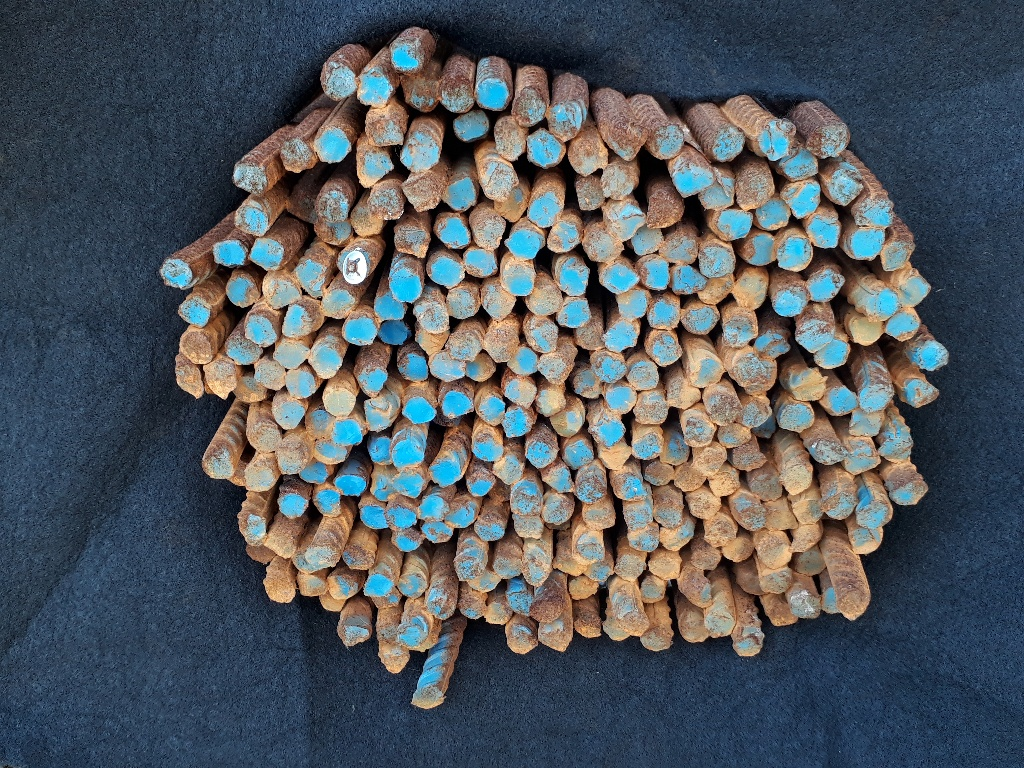dipstick: (607, 121, 648, 162), (738, 163, 773, 211), (538, 344, 575, 385), (440, 72, 474, 114), (401, 134, 439, 170), (704, 390, 741, 426), (603, 204, 643, 237), (315, 127, 351, 163), (357, 71, 392, 108), (551, 399, 585, 437), (584, 227, 622, 261), (759, 122, 793, 160), (808, 124, 851, 154), (808, 269, 846, 302), (647, 193, 682, 228), (758, 532, 792, 568), (845, 438, 879, 474), (530, 130, 563, 167), (495, 117, 524, 159), (514, 87, 546, 125), (733, 272, 765, 310), (571, 140, 606, 174), (407, 76, 440, 112), (404, 176, 439, 209), (395, 224, 430, 257), (483, 164, 515, 200), (854, 196, 892, 226), (603, 166, 636, 200), (249, 238, 283, 271), (733, 498, 767, 531), (778, 239, 812, 272), (282, 137, 314, 172), (337, 248, 372, 280), (502, 260, 534, 295), (366, 114, 402, 145), (720, 316, 756, 347), (559, 260, 589, 297), (649, 332, 682, 365), (437, 216, 471, 248), (786, 185, 820, 217), (325, 64, 356, 99), (475, 80, 510, 111), (453, 112, 489, 142), (357, 153, 393, 183), (533, 276, 560, 316), (175, 359, 204, 396), (755, 197, 788, 229), (369, 187, 403, 218), (430, 256, 464, 287), (483, 286, 514, 320), (652, 124, 683, 158), (830, 171, 861, 205), (807, 215, 838, 249), (550, 102, 577, 141), (773, 286, 808, 316), (659, 237, 696, 265), (781, 153, 818, 181), (180, 331, 212, 363), (449, 286, 481, 318), (511, 484, 543, 516), (526, 320, 557, 353), (634, 394, 667, 425), (605, 321, 638, 352), (701, 179, 734, 210), (234, 164, 268, 194), (486, 327, 516, 361), (797, 321, 831, 351), (546, 223, 580, 253), (714, 127, 744, 161), (206, 363, 235, 398), (815, 340, 850, 369), (226, 335, 262, 363), (879, 435, 915, 463), (674, 167, 714, 192), (264, 278, 301, 305), (716, 211, 753, 238), (600, 267, 638, 293), (856, 502, 893, 528), (392, 40, 423, 71), (782, 465, 813, 496), (444, 179, 474, 211), (528, 195, 560, 225), (690, 356, 722, 386), (852, 229, 884, 259), (288, 191, 317, 224), (282, 305, 311, 338), (416, 303, 449, 332), (684, 305, 718, 333), (593, 356, 628, 383), (732, 444, 767, 471), (905, 380, 941, 406), (318, 191, 348, 222), (390, 271, 421, 301), (311, 348, 342, 378), (652, 496, 682, 527), (751, 471, 782, 501), (744, 235, 774, 266), (849, 411, 886, 436), (575, 177, 603, 210), (235, 208, 268, 236), (248, 424, 281, 452), (323, 389, 356, 417), (732, 354, 765, 382), (886, 314, 919, 342), (891, 480, 929, 504), (246, 316, 276, 346), (684, 413, 714, 443), (226, 277, 257, 306), (255, 357, 284, 388), (660, 434, 689, 465), (618, 290, 647, 321), (900, 276, 931, 305), (701, 247, 732, 276), (161, 259, 193, 287), (641, 260, 669, 292), (823, 493, 856, 520), (647, 303, 680, 330), (790, 373, 823, 400), (824, 386, 857, 413), (779, 405, 813, 431), (699, 277, 733, 303), (266, 573, 295, 603), (791, 523, 820, 553), (214, 238, 245, 266), (322, 289, 353, 317), (766, 501, 797, 529), (743, 397, 771, 428), (506, 231, 538, 258), (883, 244, 915, 271), (667, 381, 700, 407), (342, 319, 376, 344), (659, 527, 693, 552), (286, 368, 315, 397), (393, 441, 423, 469), (647, 554, 682, 578), (867, 291, 897, 319), (179, 299, 210, 326), (277, 442, 304, 473), (306, 410, 333, 441), (202, 451, 234, 477), (241, 514, 267, 546), (859, 387, 891, 413), (276, 342, 309, 367), (403, 398, 436, 423), (398, 354, 428, 381), (449, 332, 479, 359), (466, 356, 496, 383), (853, 528, 883, 555), (274, 402, 305, 428), (385, 505, 416, 531), (298, 261, 323, 293), (465, 250, 497, 275), (365, 399, 390, 431), (734, 563, 759, 595), (674, 467, 706, 492), (593, 421, 626, 445), (756, 333, 789, 357), (671, 267, 704, 291), (839, 593, 867, 621), (352, 209, 381, 236), (559, 299, 588, 326), (629, 363, 658, 390), (917, 343, 946, 370), (633, 229, 662, 256), (576, 477, 606, 503), (615, 554, 645, 580), (443, 391, 474, 416), (511, 515, 542, 540), (600, 446, 631, 471), (583, 505, 615, 529), (614, 477, 646, 501), (723, 539, 755, 563), (762, 570, 794, 594), (851, 320, 883, 344), (705, 517, 732, 545), (791, 591, 819, 618), (359, 369, 388, 395), (538, 388, 564, 417), (579, 319, 605, 348), (418, 496, 448, 521), (527, 442, 557, 467), (796, 551, 826, 576), (563, 443, 593, 468), (811, 442, 845, 464), (573, 540, 604, 564), (315, 224, 352, 244), (530, 599, 562, 622), (509, 349, 536, 376), (544, 497, 572, 523), (431, 356, 464, 378), (554, 541, 574, 577), (377, 322, 408, 345), (541, 630, 572, 653), (493, 199, 525, 221), (506, 631, 538, 653), (504, 411, 531, 437), (430, 462, 458, 487), (494, 460, 523, 484), (697, 448, 726, 472), (313, 443, 346, 464), (710, 471, 740, 494), (315, 490, 340, 517), (688, 581, 713, 608), (620, 611, 648, 635), (794, 500, 822, 524), (633, 434, 661, 458), (279, 494, 308, 517), (297, 574, 327, 596), (421, 522, 452, 543), (403, 629, 434, 650), (682, 616, 707, 642), (475, 519, 503, 542), (546, 469, 574, 492), (645, 463, 673, 486), (605, 389, 633, 412), (375, 296, 404, 318), (397, 574, 426, 596), (480, 397, 502, 426), (328, 577, 358, 598), (628, 530, 658, 551), (691, 496, 721, 517), (640, 578, 665, 603), (449, 503, 475, 527), (369, 436, 392, 463), (370, 474, 393, 501), (574, 615, 601, 638), (604, 616, 631, 639), (707, 614, 734, 637), (394, 475, 422, 497), (426, 598, 454, 620), (625, 508, 653, 530), (719, 426, 751, 445), (412, 688, 444, 707), (642, 631, 672, 651), (468, 473, 494, 496), (475, 438, 501, 461), (237, 378, 264, 400), (246, 467, 273, 489), (267, 534, 294, 556), (569, 577, 596, 599), (390, 532, 421, 551), (382, 652, 410, 673), (494, 557, 522, 578), (336, 476, 365, 496), (770, 605, 799, 625), (304, 547, 338, 564), (360, 505, 384, 529), (693, 548, 720, 569), (338, 626, 369, 644), (595, 551, 613, 582), (364, 575, 391, 595), (470, 575, 500, 593), (524, 563, 548, 585), (575, 373, 599, 395), (461, 599, 487, 619), (417, 334, 447, 351), (508, 592, 529, 616), (456, 559, 481, 579), (344, 552, 374, 568), (246, 545, 274, 562), (735, 638, 760, 656), (821, 589, 838, 614), (487, 603, 508, 623), (372, 595, 401, 609), (320, 596, 343, 611), (292, 552, 305, 573)
